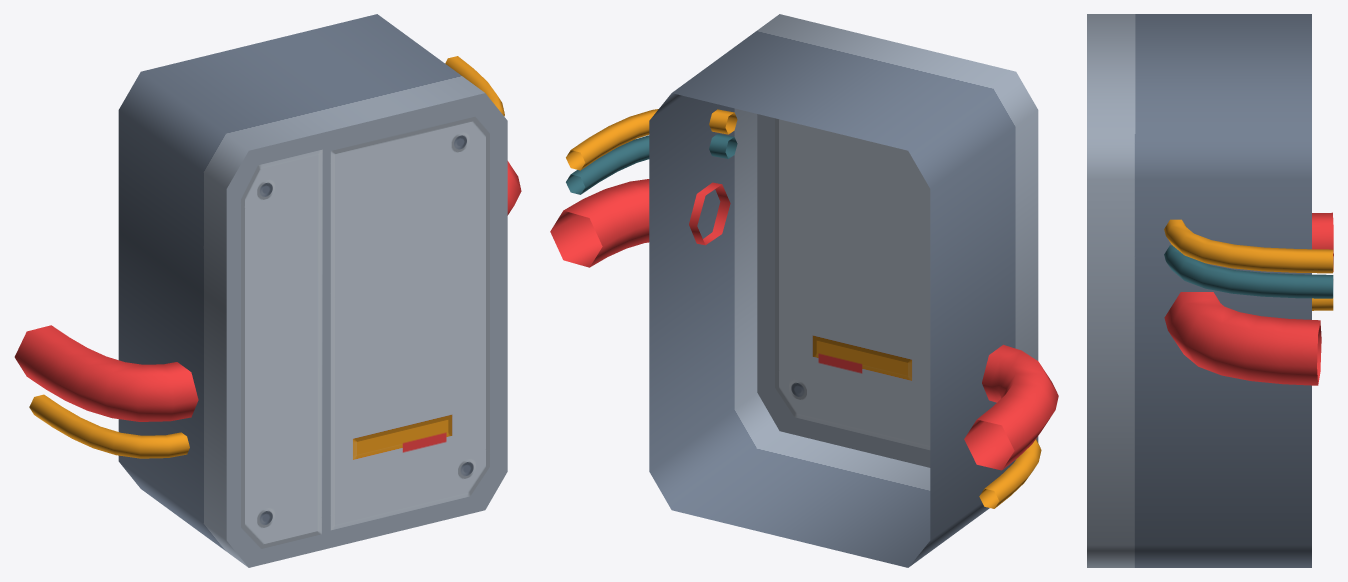
The model's file is Envi7.dae.
The picture shows the model from 3 angles, left to right: view 1: azimuth 30°, elevation 25°; view 2: azimuth 150°, elevation 25°; view 3: azimuth 270°, elevation 25°; orthographic projection. The views are drawn at different scales.
Parts seen in each view (by area): view 1: Cube.009; view 2: Cube.009; view 3: Cube.009.
Boxes of the visible parts, x1,y1,x2,y2 form: Cube.009: [14, 14, 521, 567]; Cube.009: [550, 14, 1058, 567]; Cube.009: [1087, 14, 1333, 567].
Bounding box in the file's own units: 0.9689 × 0.4218 × 0.8186.
